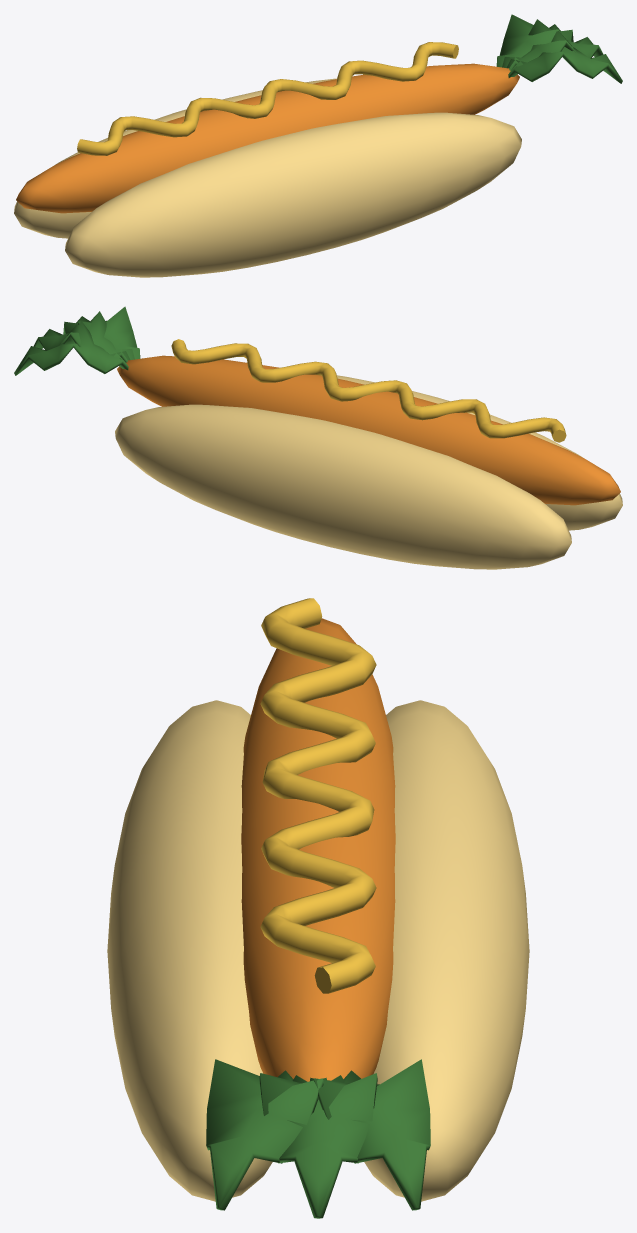
File: carrot-dog.glb
3 renders of one model, top to bottom at view 1: azimuth 30°, elevation 25°; view 2: azimuth 150°, elevation 25°; view 3: azimuth 270°, elevation 25°, orthographic. The views are drawn at different scales.
Parts seen in each view (by area): view 1: edible_bun, edible_carrot.001, edible_mustard, edible_bun.001, edible_greens, edible_greens.002, edible_greens.001; view 2: edible_bun.001, edible_carrot.001, edible_mustard, edible_greens.002, edible_bun, edible_greens.001, edible_greens; view 3: edible_bun.001, edible_bun, edible_carrot.001, edible_mustard, edible_greens, edible_greens.001, edible_greens.002.
Boxes of the visible parts, <box> form: edible_bun: <box>65,112,521,277</box>; edible_carrot.001: <box>16,63,519,213</box>; edible_mustard: <box>77,42,458,155</box>; edible_bun.001: <box>14,78,336,238</box>; edible_greens: <box>506,28,622,83</box>; edible_greens.002: <box>496,14,573,70</box>; edible_greens.001: <box>502,19,603,72</box>; edible_bun.001: <box>115,404,571,569</box>; edible_carrot.001: <box>117,355,620,505</box>; edible_mustard: <box>171,339,566,442</box>; edible_greens.002: <box>14,320,130,375</box>; edible_bun: <box>337,375,622,530</box>; edible_greens.001: <box>33,311,134,364</box>; edible_greens: <box>63,306,140,362</box>; edible_bun.001: <box>364,700,529,1201</box>; edible_bun: <box>107,700,272,1201</box>; edible_carrot.001: <box>241,618,395,1081</box>; edible_mustard: <box>260,598,376,993</box>; edible_greens: <box>206,1059,326,1210</box>; edible_greens.001: <box>259,1073,377,1218</box>; edible_greens.002: <box>310,1059,430,1210</box>.
Bounding box in the file's own units: 0.375 × 0.086 × 0.116.
